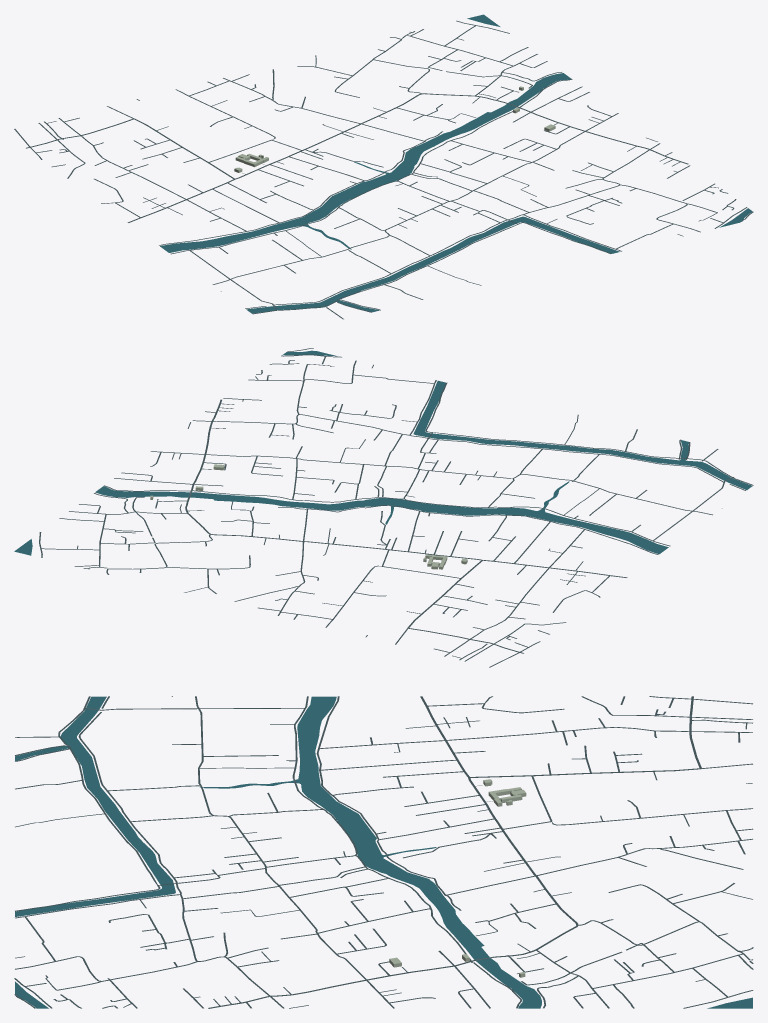
The picture shows the model from 3 angles, top to bottom: view 1: azimuth 30°, elevation 25°; view 2: azimuth 150°, elevation 25°; view 3: azimuth 270°, elevation 25°; orthographic projection. The views are drawn at different scales.
Visible parts, largest first — view 1: street, water; view 2: street, water; view 3: street, water, building.
Boxes of the visible parts, x1=… form: street: x1=14, y1=20, x2=753, y2=319; water: x1=160, y1=14, x2=752, y2=313; street: x1=39, y1=348, x2=753, y2=667; water: x1=14, y1=350, x2=752, y2=555; street: x1=14, y1=696, x2=753, y2=1008; water: x1=15, y1=696, x2=752, y2=1008; building: x1=389, y1=779, x2=526, y2=977.
Size of the model in its own units: 2005 by 10.7 by 2005.
